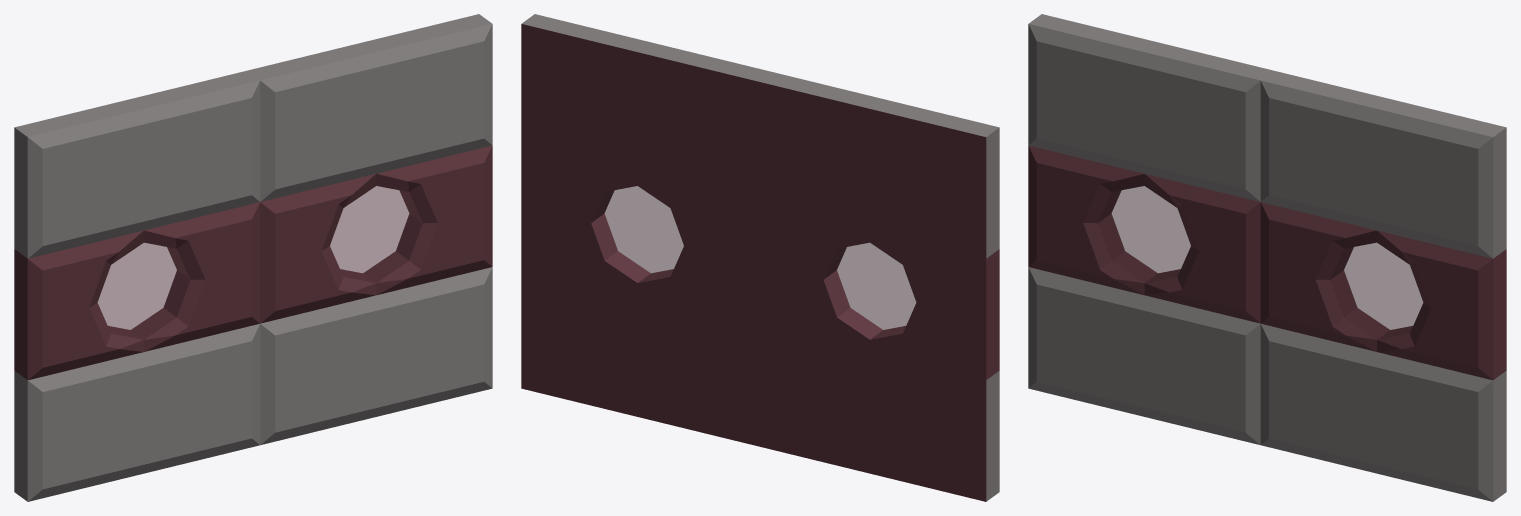
Rendered from scifi-wall-windows-stripe.fbx.
3 views of the same model, side by side, from view 1: azimuth 30°, elevation 25°; view 2: azimuth 150°, elevation 25°; view 3: azimuth 330°, elevation 25° (orthographic).
Visible parts, largest first — view 1: scifi-wall-windows-stripe; view 2: scifi-wall-windows-stripe; view 3: scifi-wall-windows-stripe.
Part boxes in pixels (left/top/right/bottom): scifi-wall-windows-stripe: left=14, top=14, right=492, bottom=501; scifi-wall-windows-stripe: left=521, top=14, right=999, bottom=501; scifi-wall-windows-stripe: left=1028, top=14, right=1506, bottom=501.
Size of the model in its own units: 4 by 3 by 0.25.
